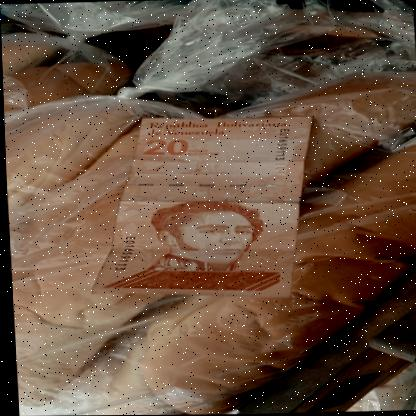twenty-front-vef: (107, 108, 349, 299)
